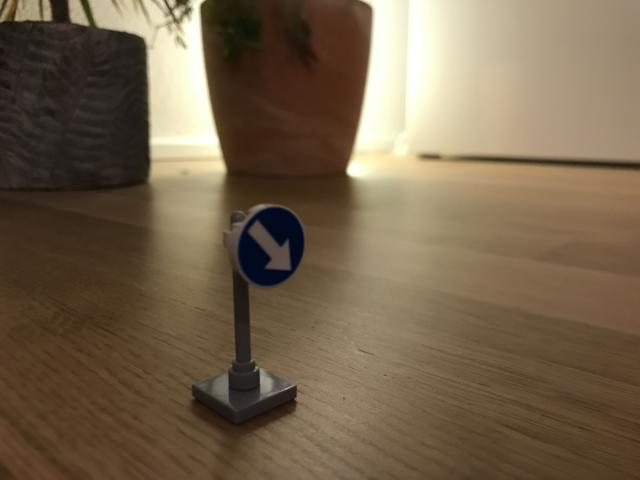rechts halten: (236, 202, 307, 287)
